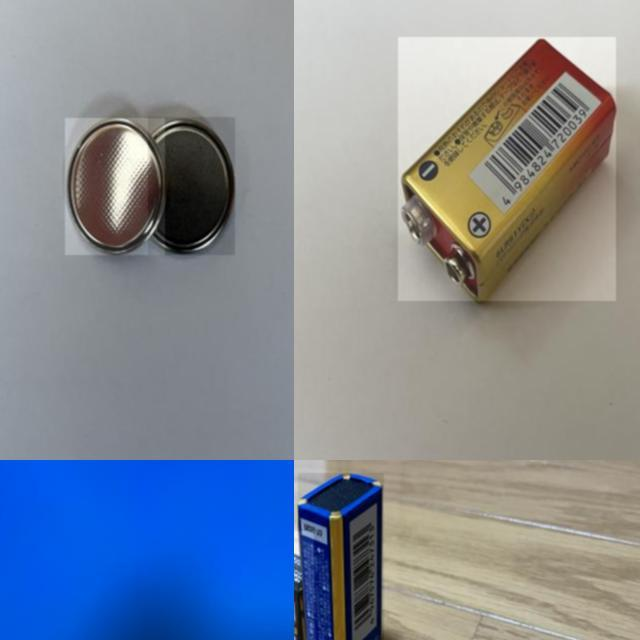9V: (399, 38, 617, 302), (298, 472, 384, 640)
